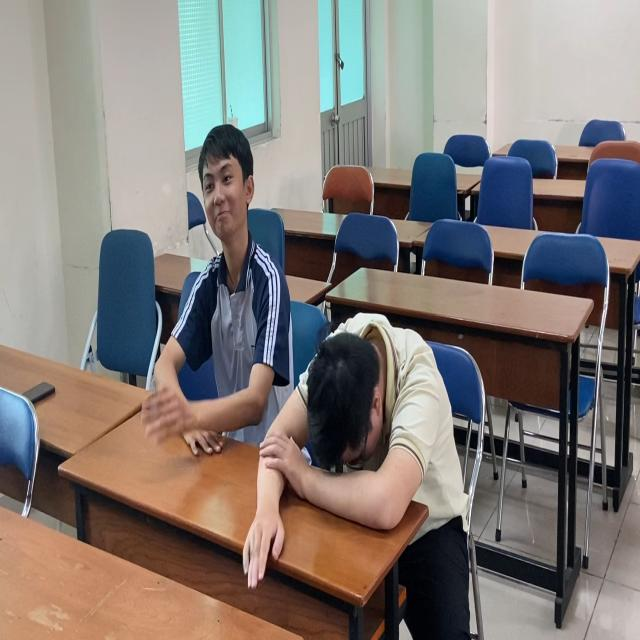sleep: (238, 272, 471, 609)
